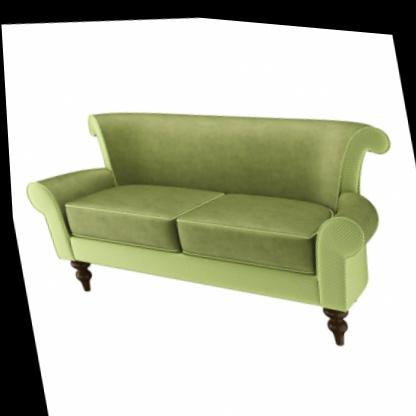Sofa: (8, 67, 416, 379)
